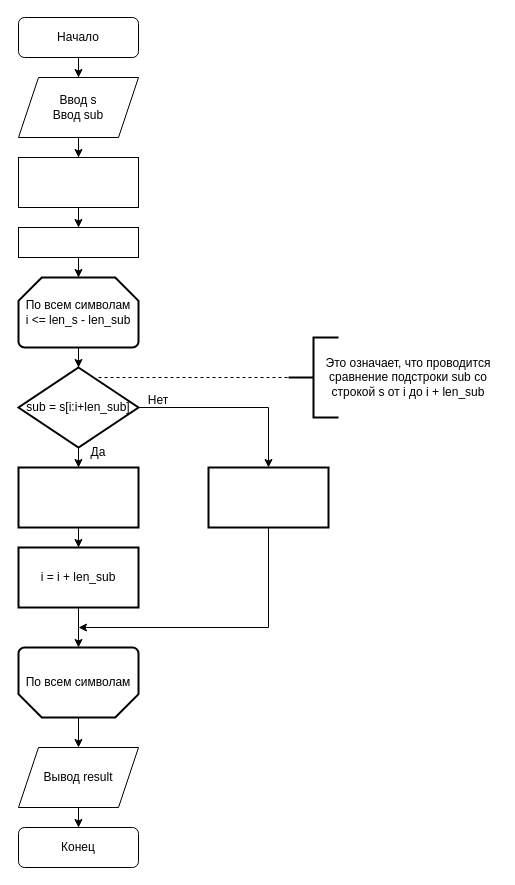
The diagram is 515 pixels wide and 885 high, and some of its shapes have lost their labels. The box of each missing label's shape, as (x1, y1, x2, y2) in pixels:
i = 0: (18, 226, 138, 258)
i = i + 1: (207, 466, 329, 528)
result = копия s len_s = длина s len_sub = длина sub: (18, 156, 138, 208)
result[i + j - 1] := sub[len_sub - j + 1]: (17, 466, 139, 528)
